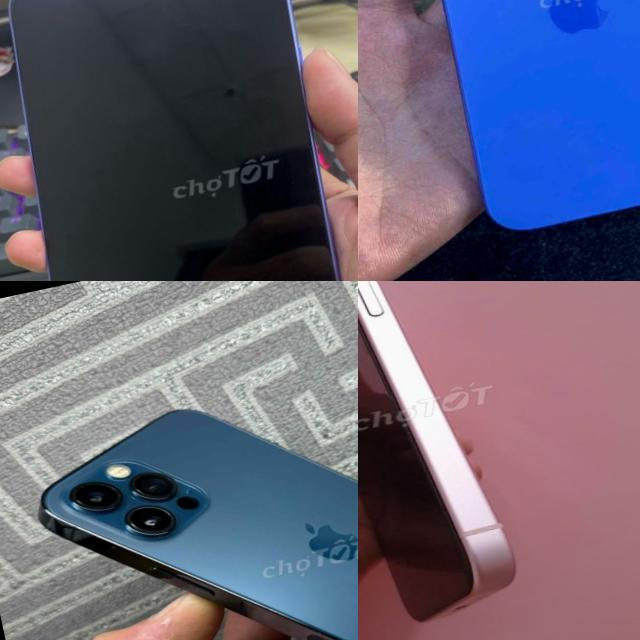gen_12_13: (28, 328, 358, 640)
gen_15: (358, 281, 550, 640)
gen_16: (0, 0, 358, 281), (444, 0, 640, 228)
